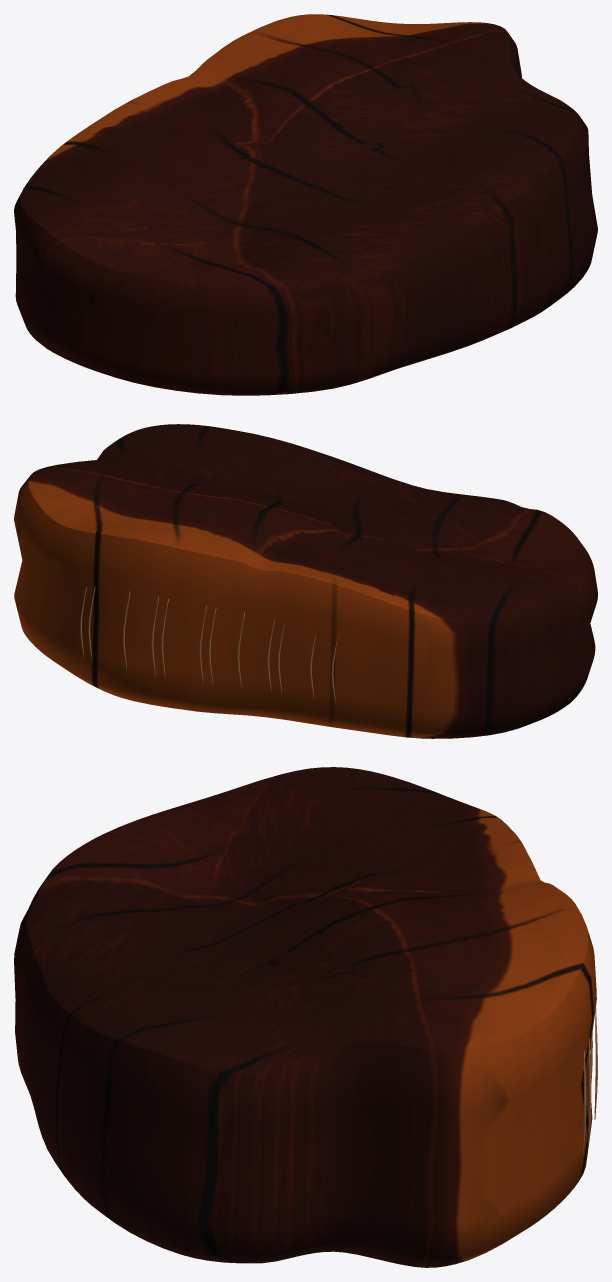
Rendered from boar_grilled.glb.
The picture shows the model from 3 angles, top to bottom: view 1: azimuth 30°, elevation 25°; view 2: azimuth 150°, elevation 25°; view 3: azimuth 270°, elevation 25°; orthographic projection. The views are drawn at different scales.
Visible parts, largest first — view 1: boar_grilled; view 2: boar_grilled; view 3: boar_grilled.
Part boxes in pixels (x1=…): boar_grilled: x1=14, y1=14, x2=597, y2=395; boar_grilled: x1=14, y1=424, x2=597, y2=738; boar_grilled: x1=14, y1=767, x2=597, y2=1267.
Bounding box in the file's own units: 0.2378 × 0.0768 × 0.169.
2 materials, 1 textured.
